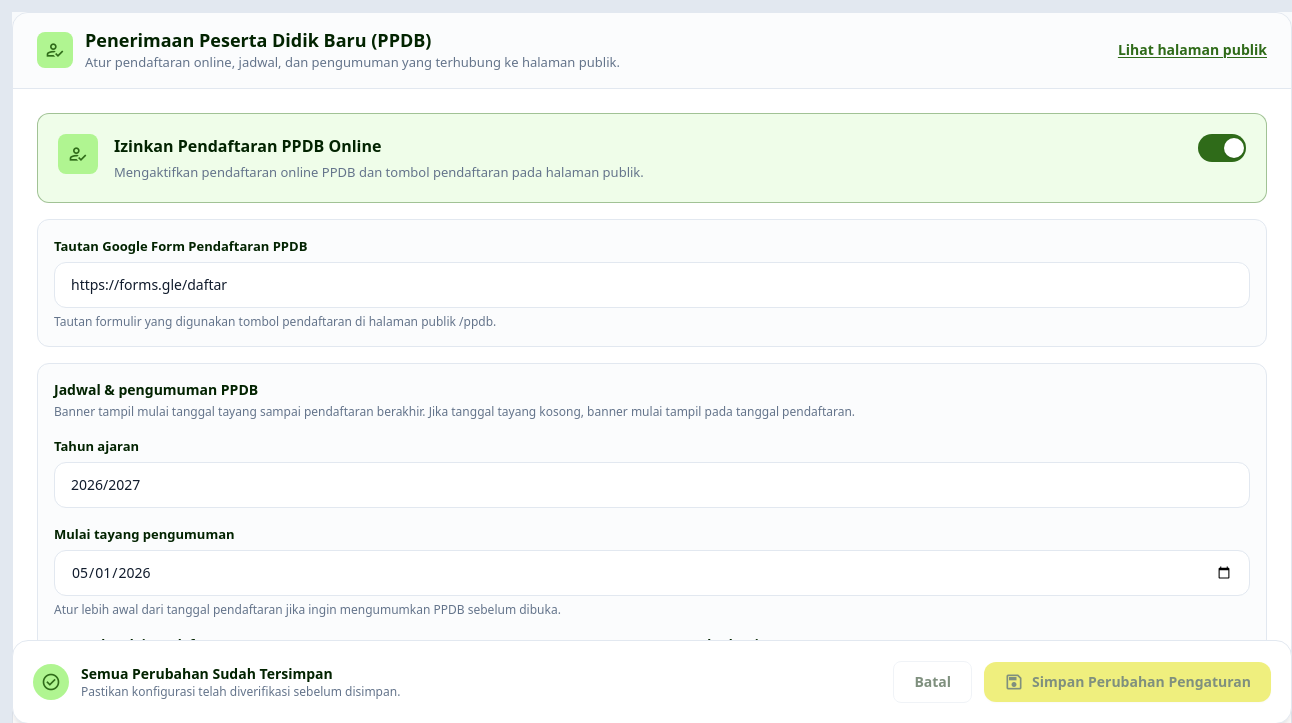
Test case: Admin · Pengaturan PPDB › mengizinkan Admin biasa menyimpan hanya konfigurasi PPDB
Type "2027/2028" into the field labelled "Tahun ajaran" at (652, 484), box [54, 462, 1250, 508]
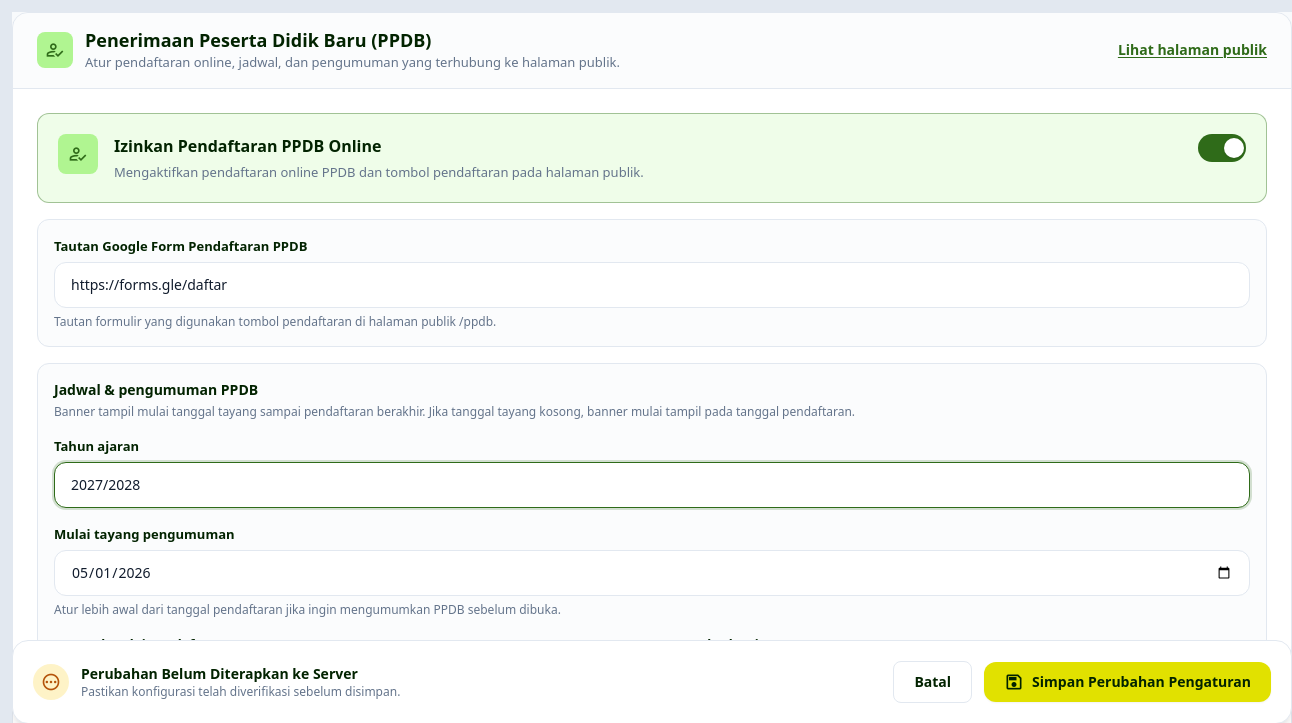
Click the button "Simpan Perubahan Pengaturan" at (1128, 682), box [984, 662, 1271, 702]
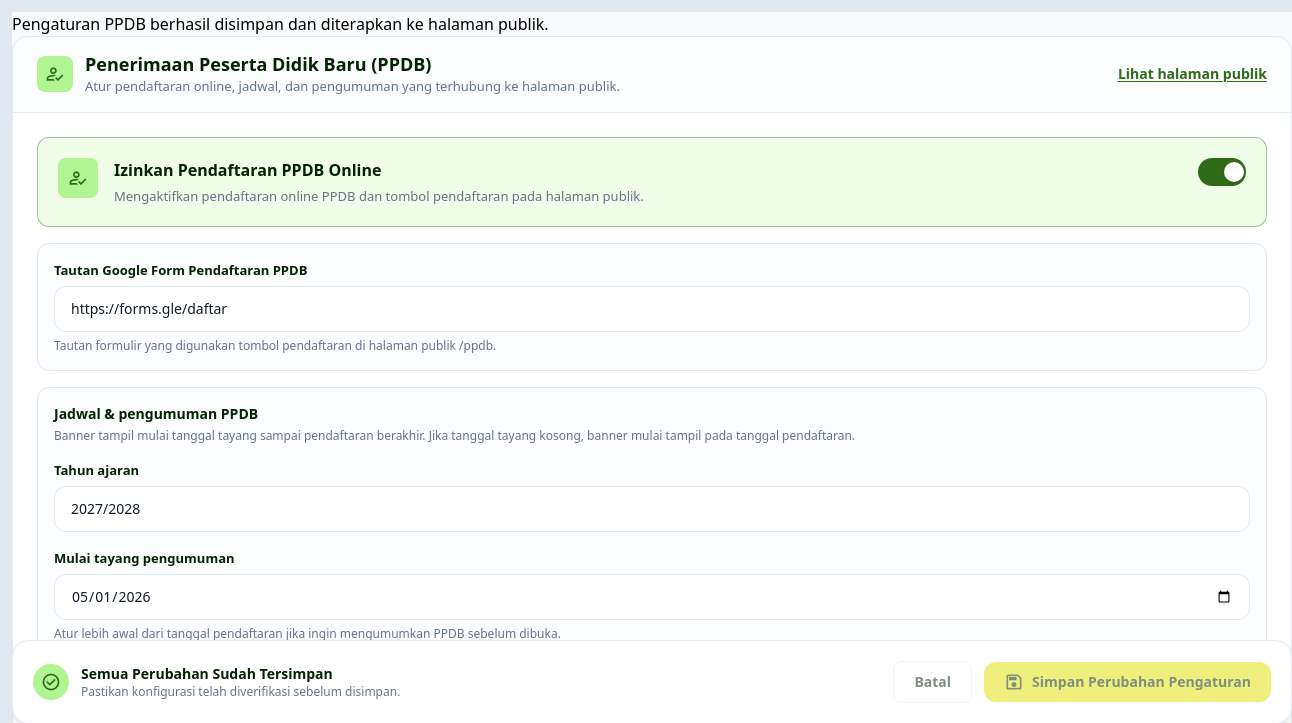
Check: the text "Pengaturan PPDB berhasil disimpan dan diterapkan ke halaman publik." is shown, box [12, 13, 549, 35]
